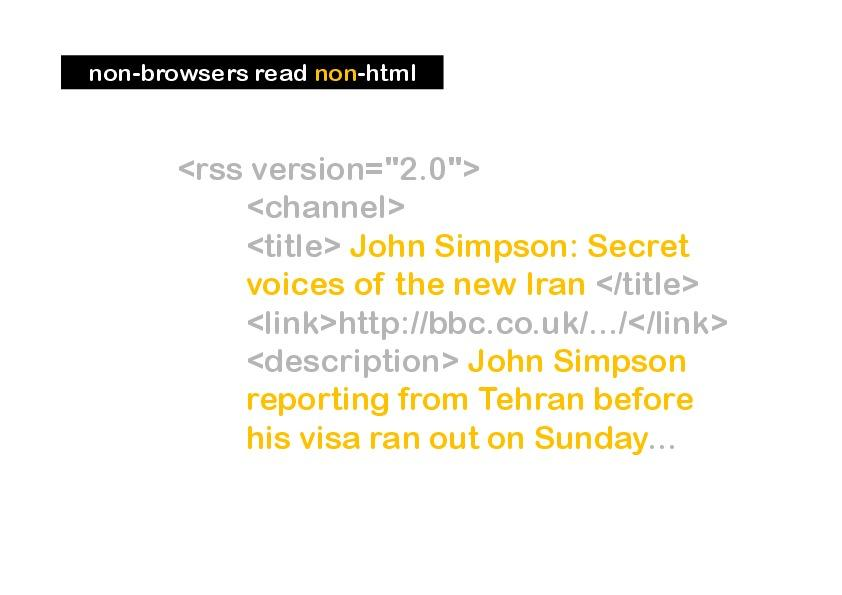paragraph: (160, 124, 793, 477)
title: (83, 61, 428, 99)
